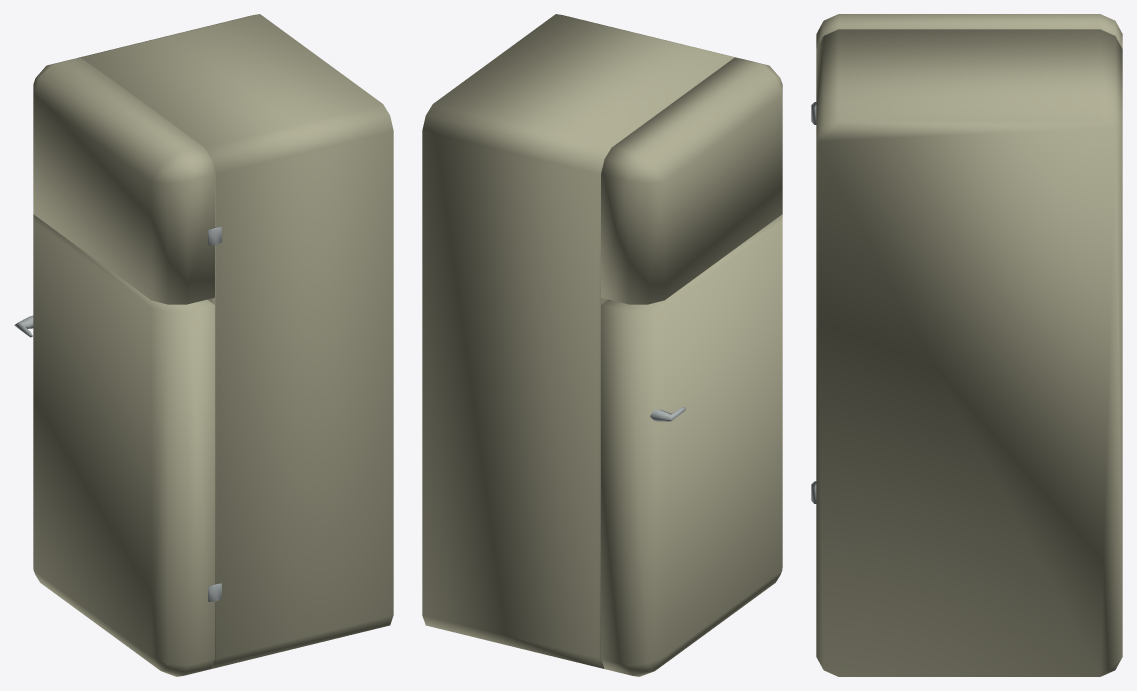
Rendered from lowpoly_retro_fridge.glb.
3 renders of one model, left to right at view 1: azimuth 30°, elevation 25°; view 2: azimuth 150°, elevation 25°; view 3: azimuth 270°, elevation 25°, orthographic. The views are drawn at different scales.
Parts seen in each view (by area): view 1: Box001; view 2: Box001; view 3: Box001.
Part boxes in pixels (box(x1,y1,x2,y2)): Box001: box(33, 14, 393, 676); Box001: box(422, 14, 782, 676); Box001: box(816, 14, 1122, 676).
Size of the model in its own units: 1 by 2.07 by 1.05.
